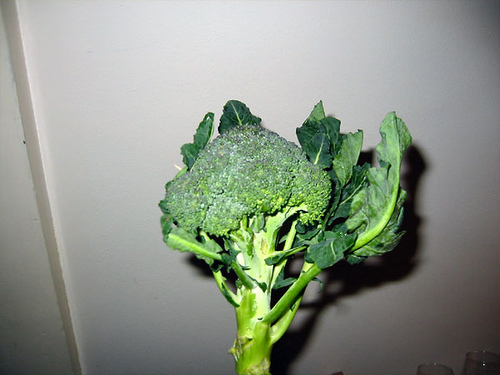broccoli: (156, 97, 417, 373)
